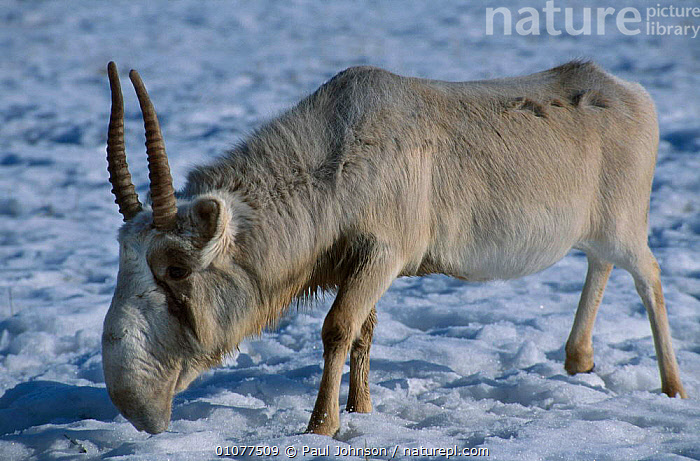saiga: (100, 57, 700, 443)
